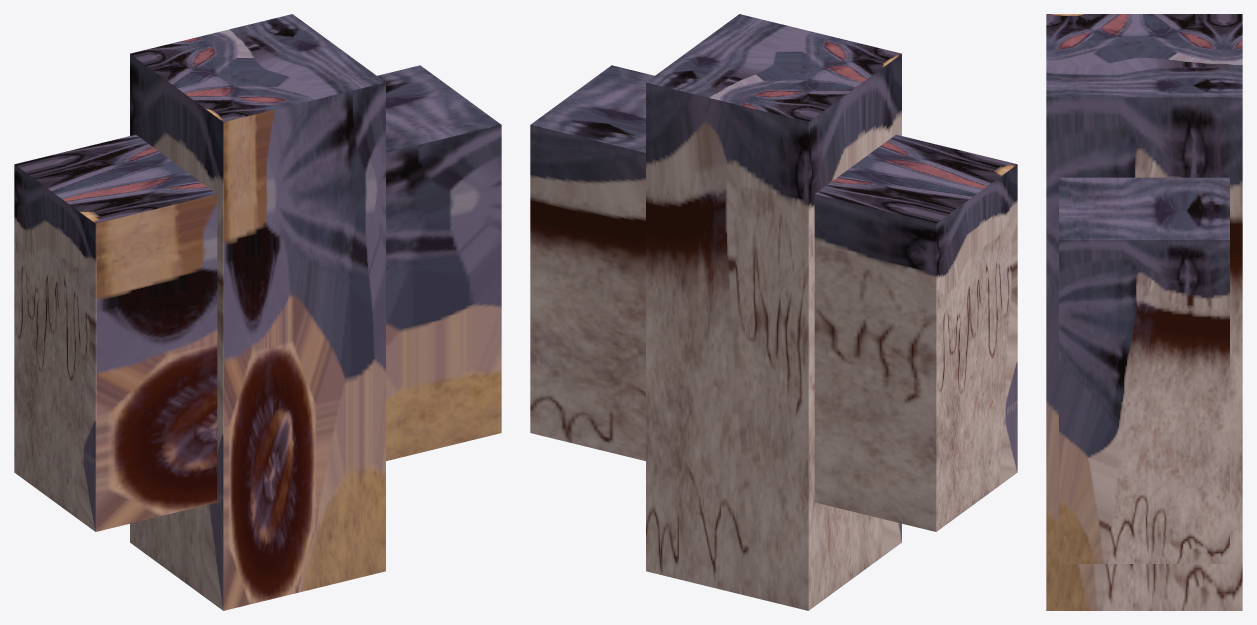
File: sb_obj_DemonsCastle004_candlestick_col.fbx
3 views of the same model, side by side, from view 1: azimuth 30°, elevation 25°; view 2: azimuth 150°, elevation 25°; view 3: azimuth 270°, elevation 25° (orthographic). The views are drawn at different scales.
Visible parts, largest first — view 1: sb_obj_DemonsCastle004_candlestick_col; view 2: sb_obj_DemonsCastle004_candlestick_col; view 3: sb_obj_DemonsCastle004_candlestick_col.
Part boxes in pixels (x1,y1,x2,y2): sb_obj_DemonsCastle004_candlestick_col: (14, 14, 501, 610); sb_obj_DemonsCastle004_candlestick_col: (530, 14, 1017, 610); sb_obj_DemonsCastle004_candlestick_col: (1046, 14, 1242, 610).
Size of the model in its own units: 0.6168 by 0.7099 by 0.2464.
1 material, 1 textured.
